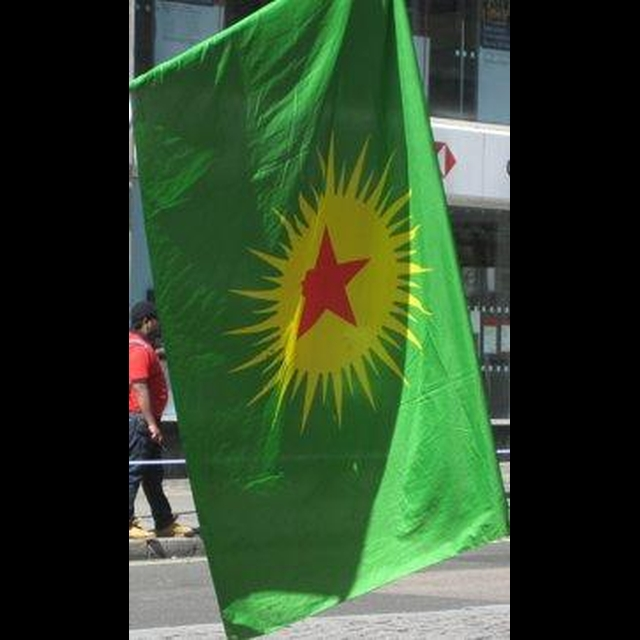KCK: (224, 111, 440, 452)
